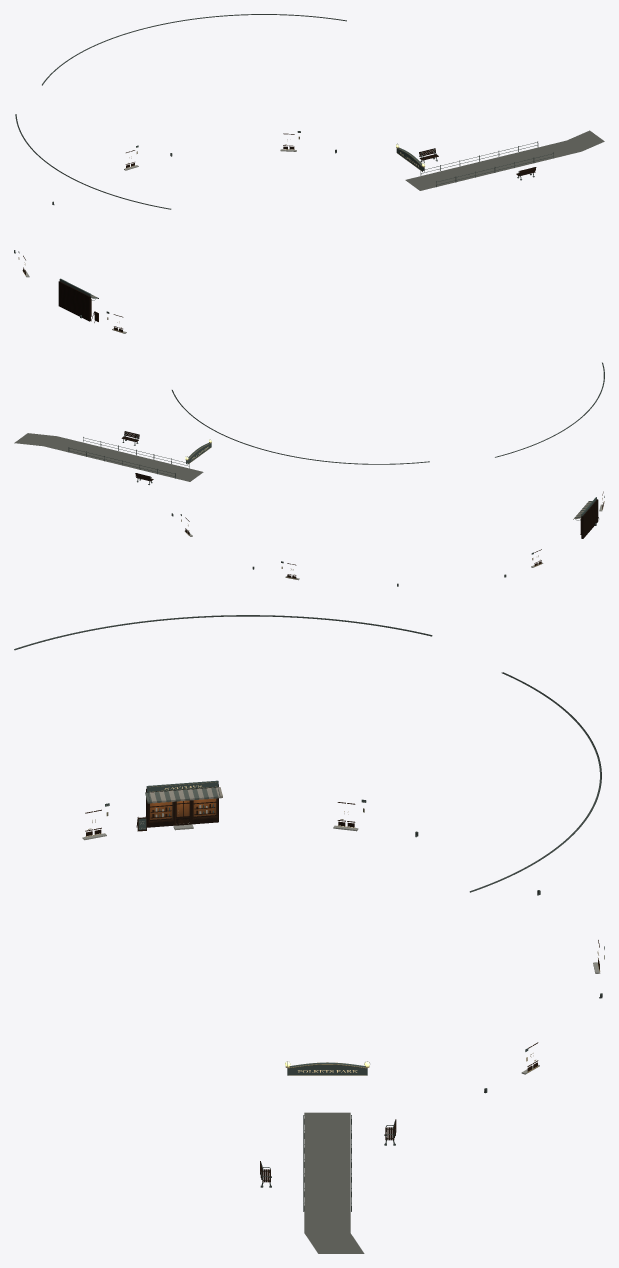
Rendered from surroundings.glb.
The picture shows the model from 3 angles, top to bottom: view 1: azimuth 30°, elevation 25°; view 2: azimuth 150°, elevation 25°; view 3: azimuth 270°, elevation 25°; orthographic projection. The views are drawn at different scales.
Parts seen in each view (by area): view 1: Surroundings_Park_Gravel, Building_West_Additions_Timber, Surroundings_Park_Iron, Building_North_Additions_Iron; view 2: Surroundings_Park_Gravel, Surroundings_Park_Iron, Building_North_Additions_Iron, Building_West_Additions_Timber; view 3: Surroundings_Park_Gravel, Building_West_Additions_Timber, Surroundings_Park_Enamel, Building_West_Additions_Iron, Building_West_Additions_WarmInterior.
Part boxes in pixels (x1=…): Surroundings_Park_Gravel: x1=405, y1=130, x2=604, y2=190; Building_West_Additions_Timber: x1=24, y1=271, x2=98, y2=322; Surroundings_Park_Iron: x1=396, y1=141, x2=553, y2=187; Building_North_Additions_Iron: x1=42, y1=14, x2=346, y2=204; Surroundings_Park_Gravel: x1=14, y1=433, x2=203, y2=481; Surroundings_Park_Iron: x1=68, y1=431, x2=210, y2=484; Building_North_Additions_Iron: x1=171, y1=390, x2=429, y2=586; Building_West_Additions_Timber: x1=581, y1=499, x2=598, y2=538; Surroundings_Park_Gravel: x1=304, y1=1112, x2=364, y2=1253; Building_West_Additions_Timber: x1=86, y1=784, x2=353, y2=835; Surroundings_Park_Enamel: x1=287, y1=1062, x2=367, y2=1075; Building_West_Additions_Iron: x1=14, y1=615, x2=432, y2=837; Building_West_Additions_WarmInterior: x1=150, y1=798, x2=216, y2=819.
Size of the model in its own units: 77.22 by 17.24 by 44.64.
13 materials, 3 textured.
